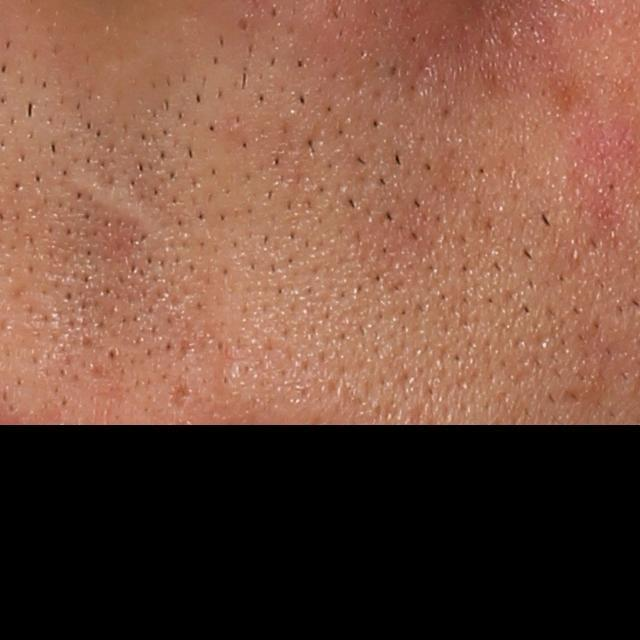atrophic_scar: (165, 382, 194, 414)
comedo: (234, 13, 253, 33)
